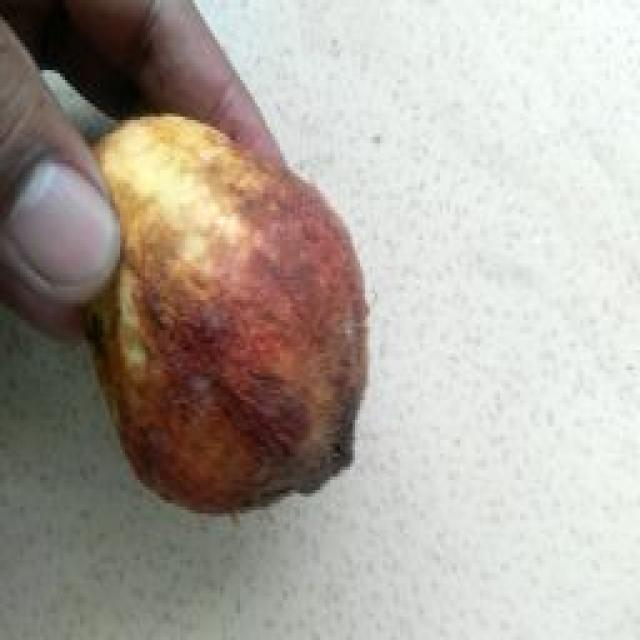Bad_Guava: (86, 120, 368, 511)
